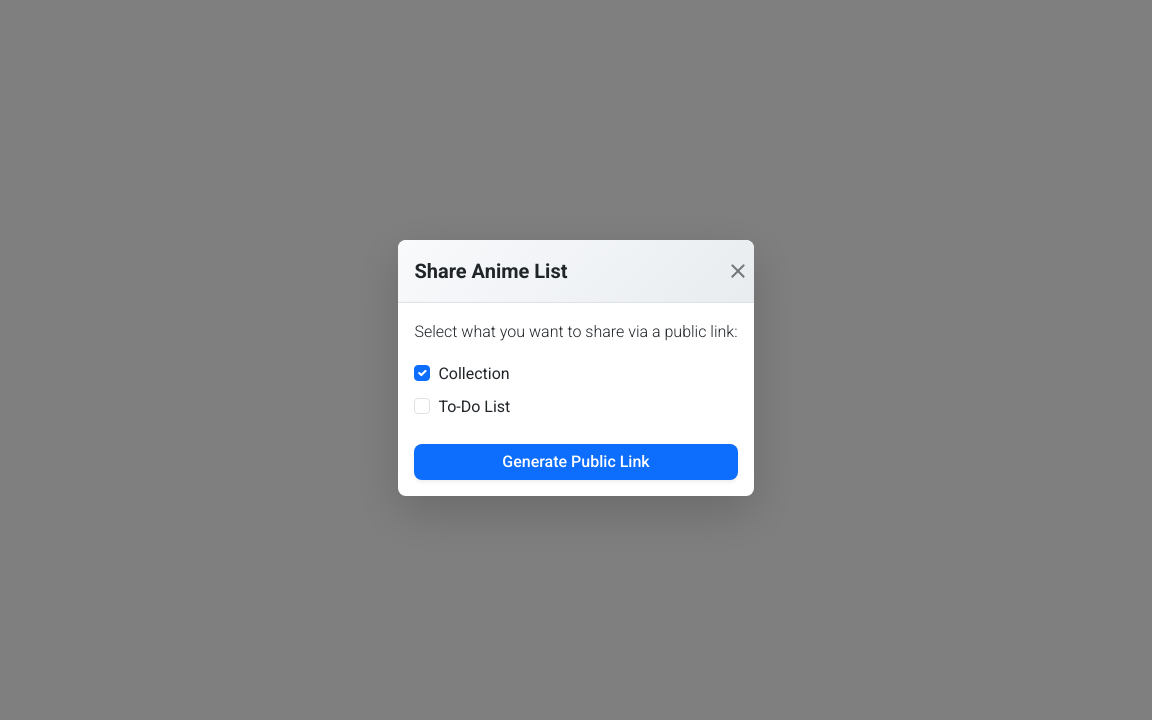
Test case: ShareLinkModal › shows "Link Active" after a successful generate
Click the button "Generate Public Link".
click(576, 462)  # box [414, 444, 738, 480]
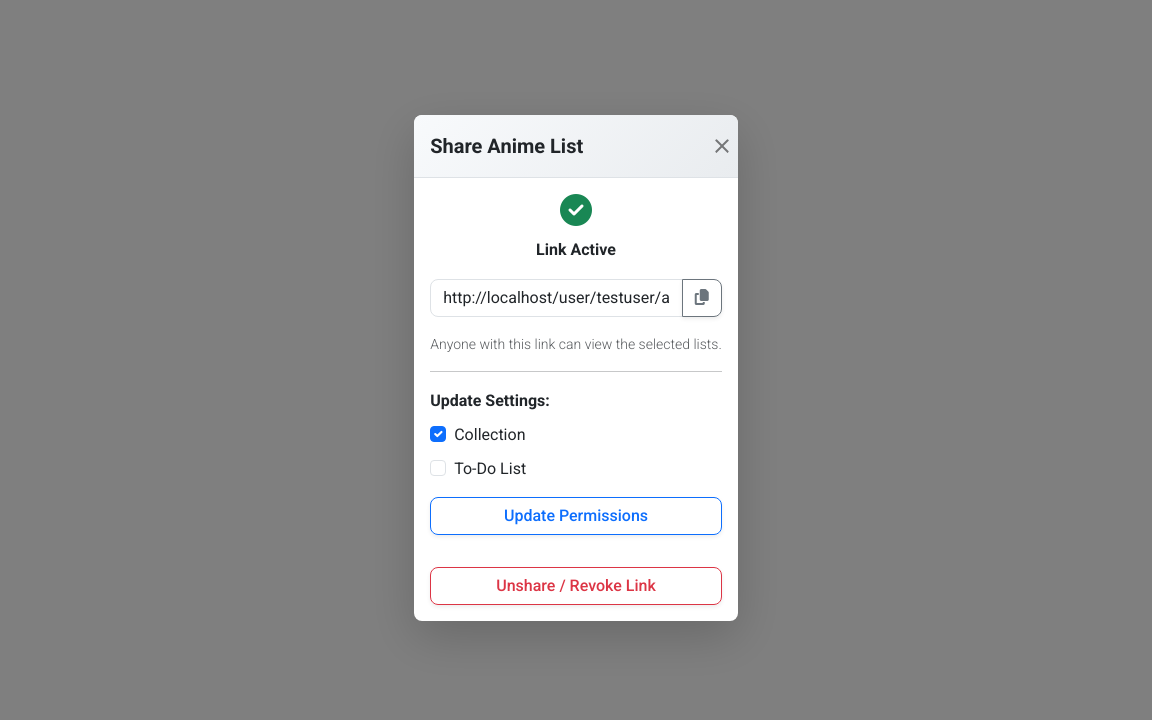
Expected: the text "Link Active" is shown, [536, 240, 616, 259]
